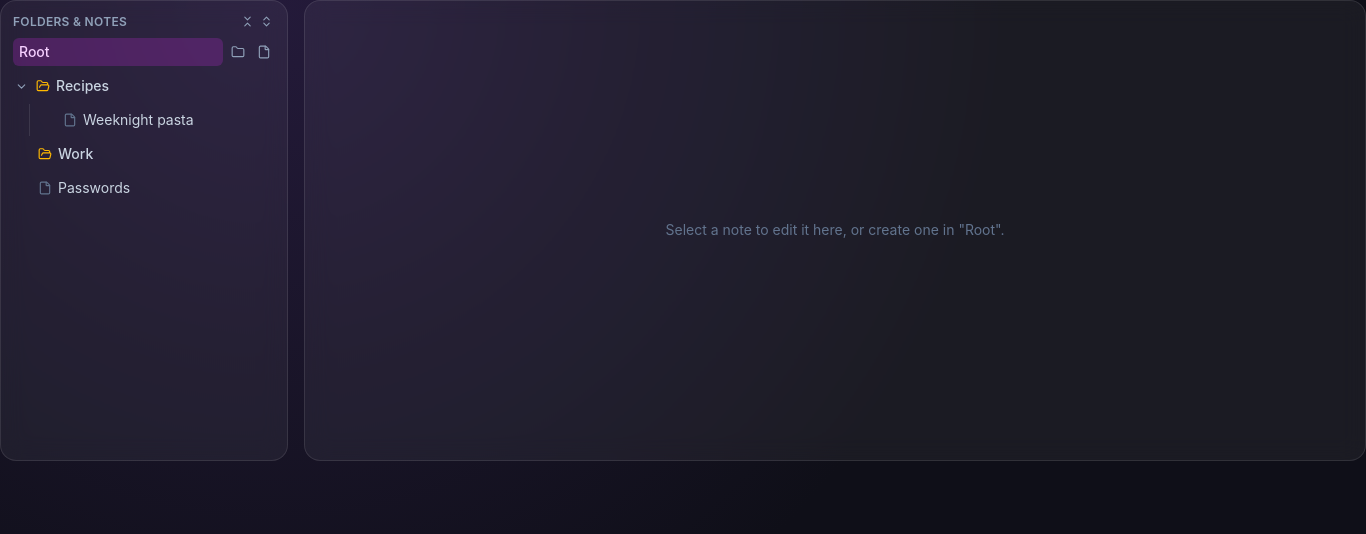
Scenario: NotesView › saves an edited note name via PATCH /api/notes/:id
Expected: the button "Root" is shown, left=13, top=38, right=223, bottom=66
Click the button "Passwords". click: (152, 188)
box: left=58, top=176, right=245, bottom=200
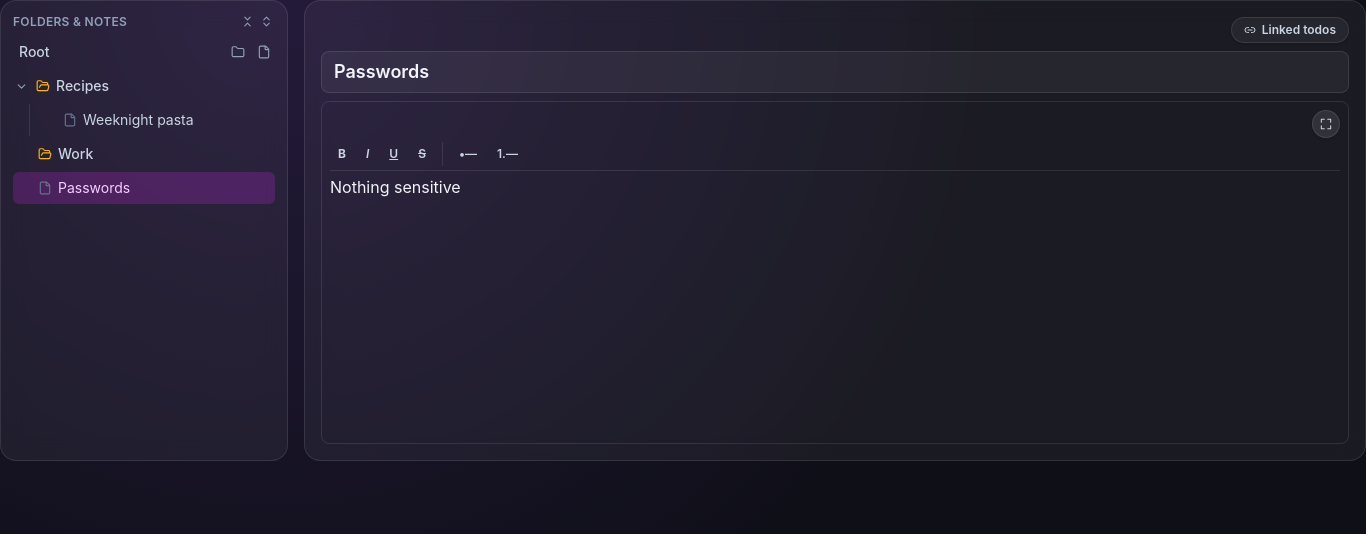
Now the field named "Note name" holds "Passwords"
Replace the text in the field named "Note name" with "Passwords (renamed)". click: (835, 72)
box: left=321, top=51, right=1349, bottom=93
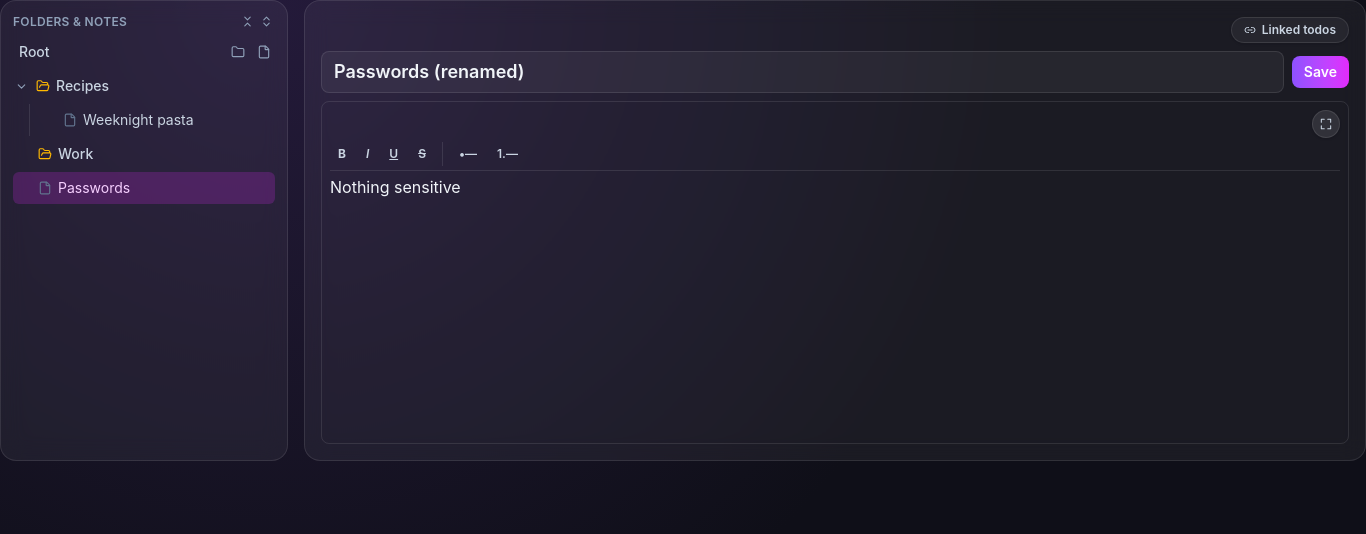
Click the button "Save". click: (1320, 72)
box: left=1292, top=56, right=1349, bottom=88
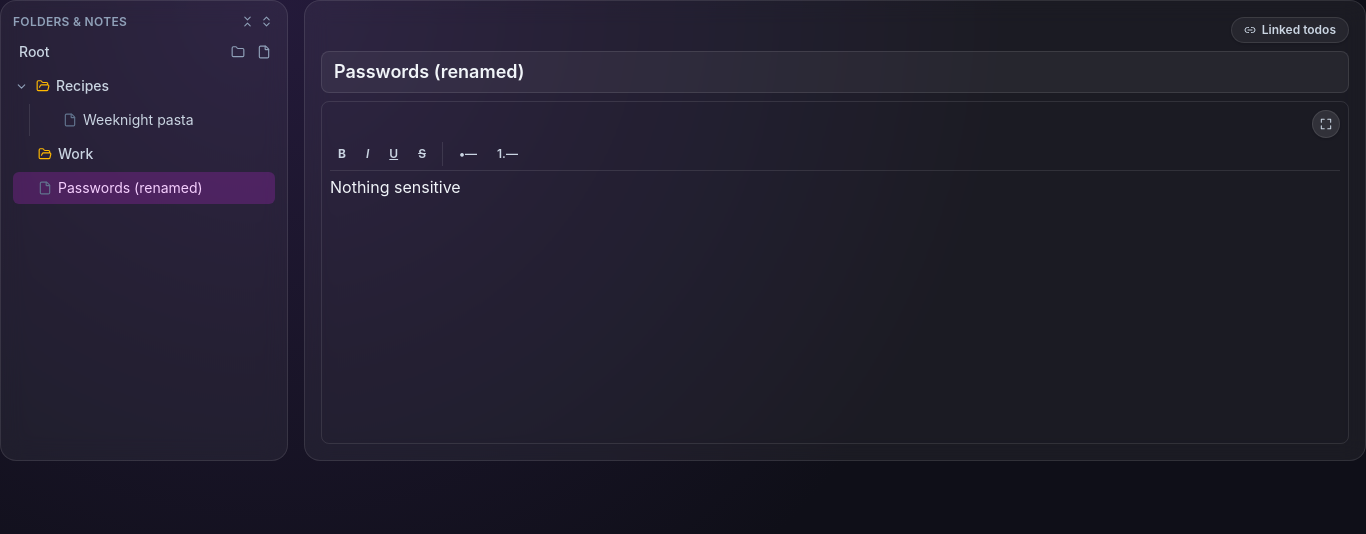
Now the button "Save" is gone
